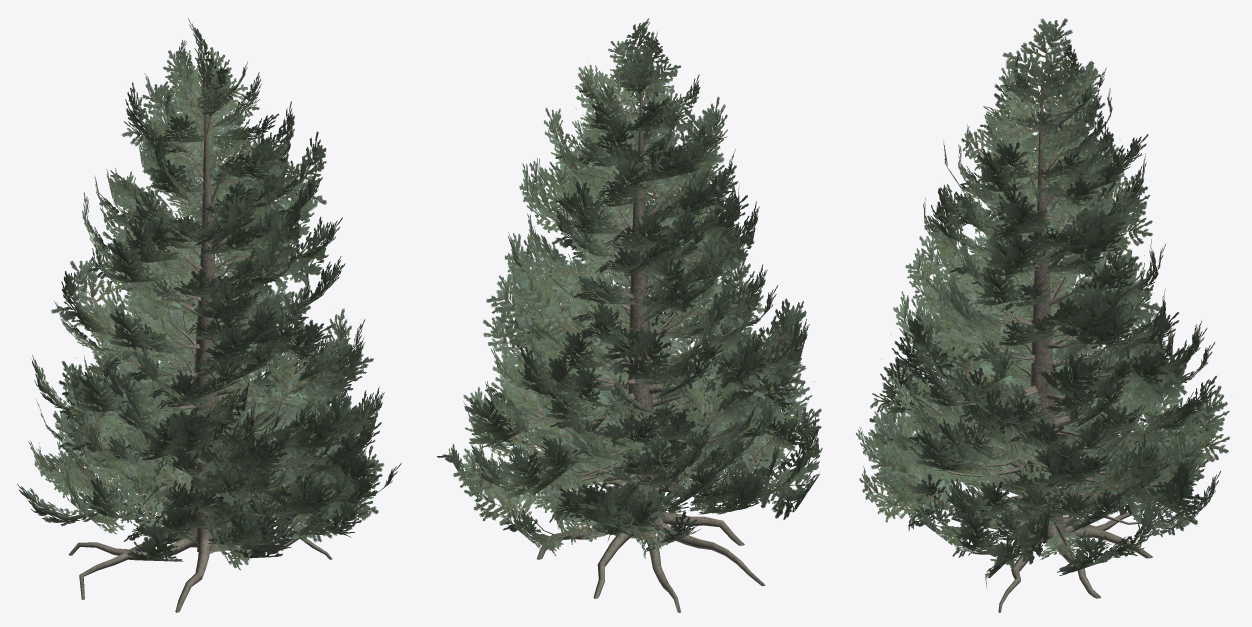
File: Fir.fbx
3 views of the same model, side by side, from view 1: azimuth 30°, elevation 25°; view 2: azimuth 150°, elevation 25°; view 3: azimuth 270°, elevation 25° (orthographic).
Parts seen in each view (by area): view 1: Fir_LOD0; view 2: Fir_LOD0; view 3: Fir_LOD0.
Boxes of the visible parts, x1,y1,x2,y2 form: Fir_LOD0: (17,18,401,612); Fir_LOD0: (436,18,822,612); Fir_LOD0: (856,18,1230,612).
Size of what is drawn, in the model's own units: 12.26 by 18 by 11.51.
Materials: 2 (2 with a texture image).
